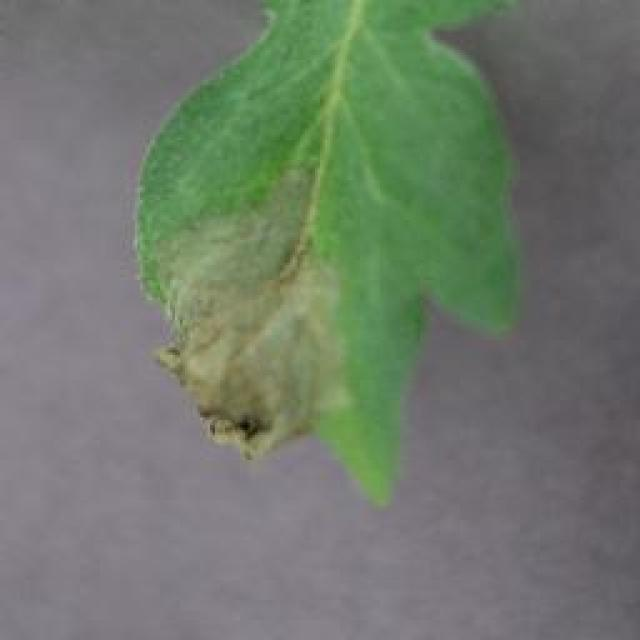Tomato late blight leaf: (140, 0, 530, 508)
